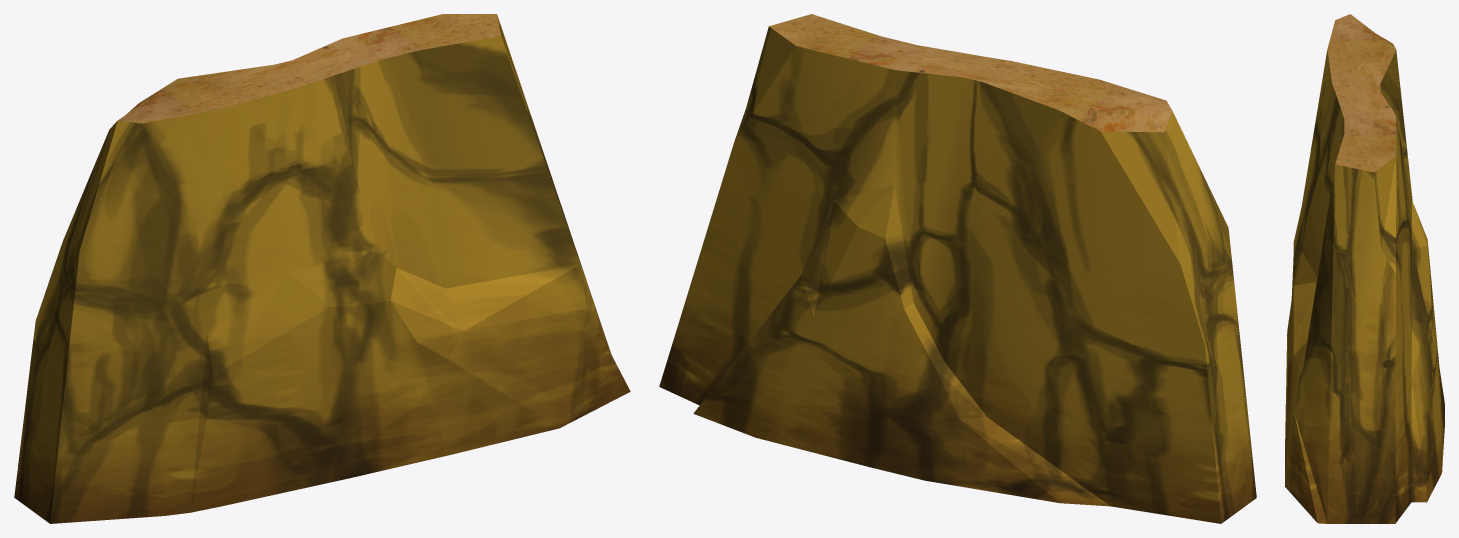
The model's file is 4by1 Piece.FBX.
3 renders of one model, left to right at view 1: azimuth 30°, elevation 25°; view 2: azimuth 150°, elevation 25°; view 3: azimuth 270°, elevation 25°, orthographic. The views are drawn at different scales.
Visible parts, largest first — view 1: 4by1 Piece; view 2: 4by1 Piece; view 3: 4by1 Piece.
Part boxes in pixels (x1,y1,x2,y2): 4by1 Piece: [14, 14, 630, 523]; 4by1 Piece: [659, 14, 1256, 523]; 4by1 Piece: [1285, 14, 1444, 523].
Bounding box in the file's own units: 324 × 206 × 95.61.
